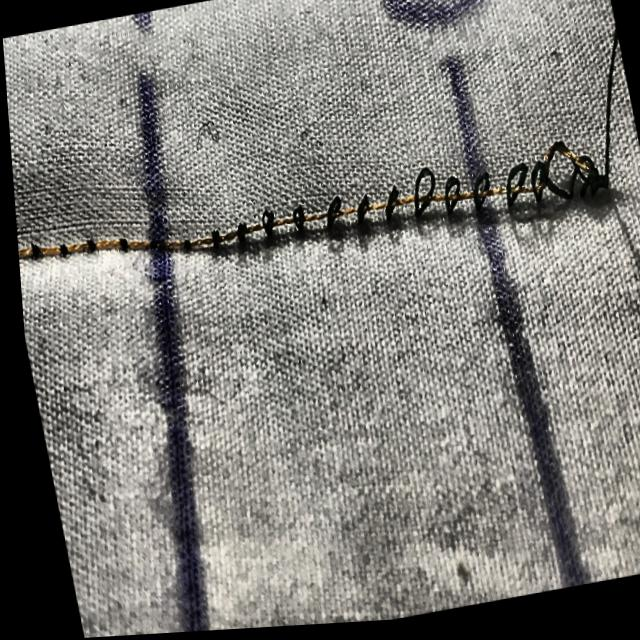Stitch: (162, 0, 640, 293)
